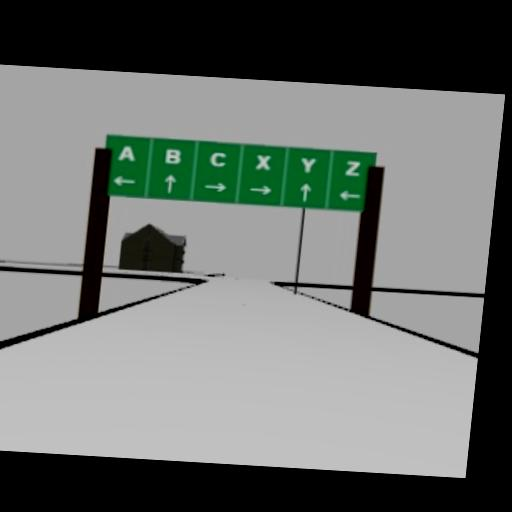A: (117, 144, 137, 161)
B: (163, 147, 181, 164)
C: (208, 151, 228, 166)
Left: (112, 174, 137, 187), (339, 189, 362, 200)
Right: (203, 181, 228, 193), (249, 184, 272, 195)
Straight: (162, 174, 177, 192), (298, 182, 311, 200)
X: (255, 154, 271, 169)
Y: (299, 157, 317, 174)
Z: (344, 159, 362, 176)
